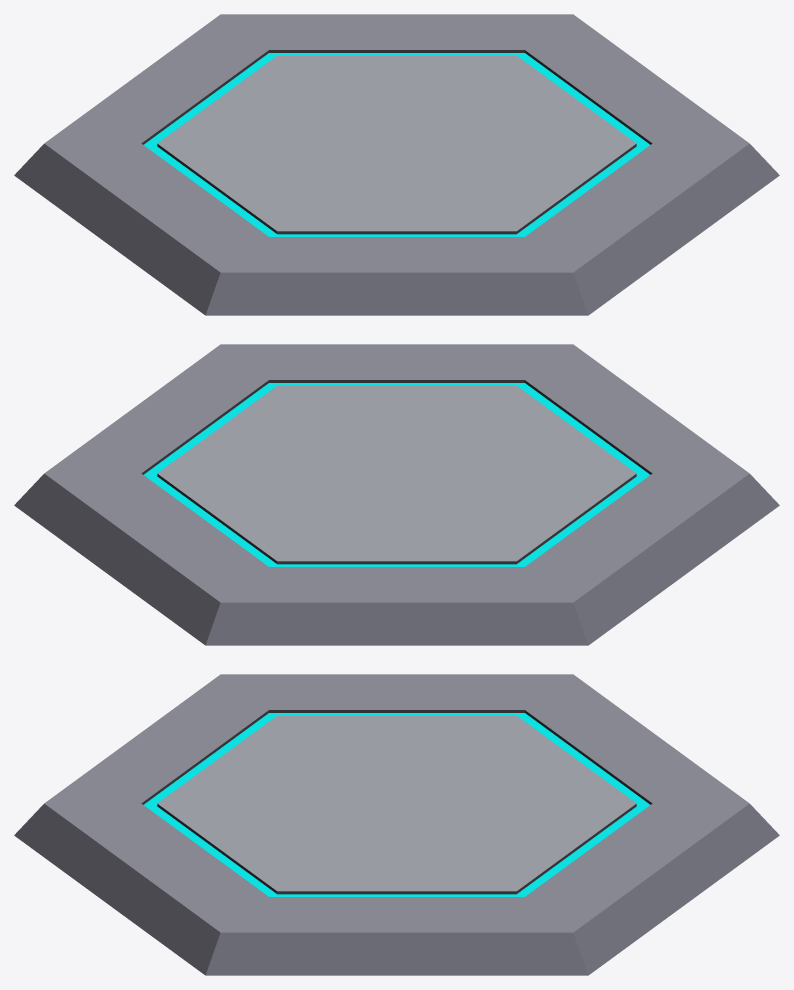
File: FloorHexa_01.glb
3 renders of one model, top to bottom at view 1: azimuth 30°, elevation 25°; view 2: azimuth 150°, elevation 25°; view 3: azimuth 270°, elevation 25°, orthographic.
Parts seen in each view (by area): view 1: FloorHexa_01; view 2: FloorHexa_01; view 3: FloorHexa_01.
Part boxes in pixels (x1,y1,x2,y2): FloorHexa_01: (14,14,779,315); FloorHexa_01: (14,344,779,645); FloorHexa_01: (14,674,779,975).
Size of what is drawn, in the model's own units: 1.88 by 0.1 by 2.17.
Materials: 1 (1 with a texture image).
